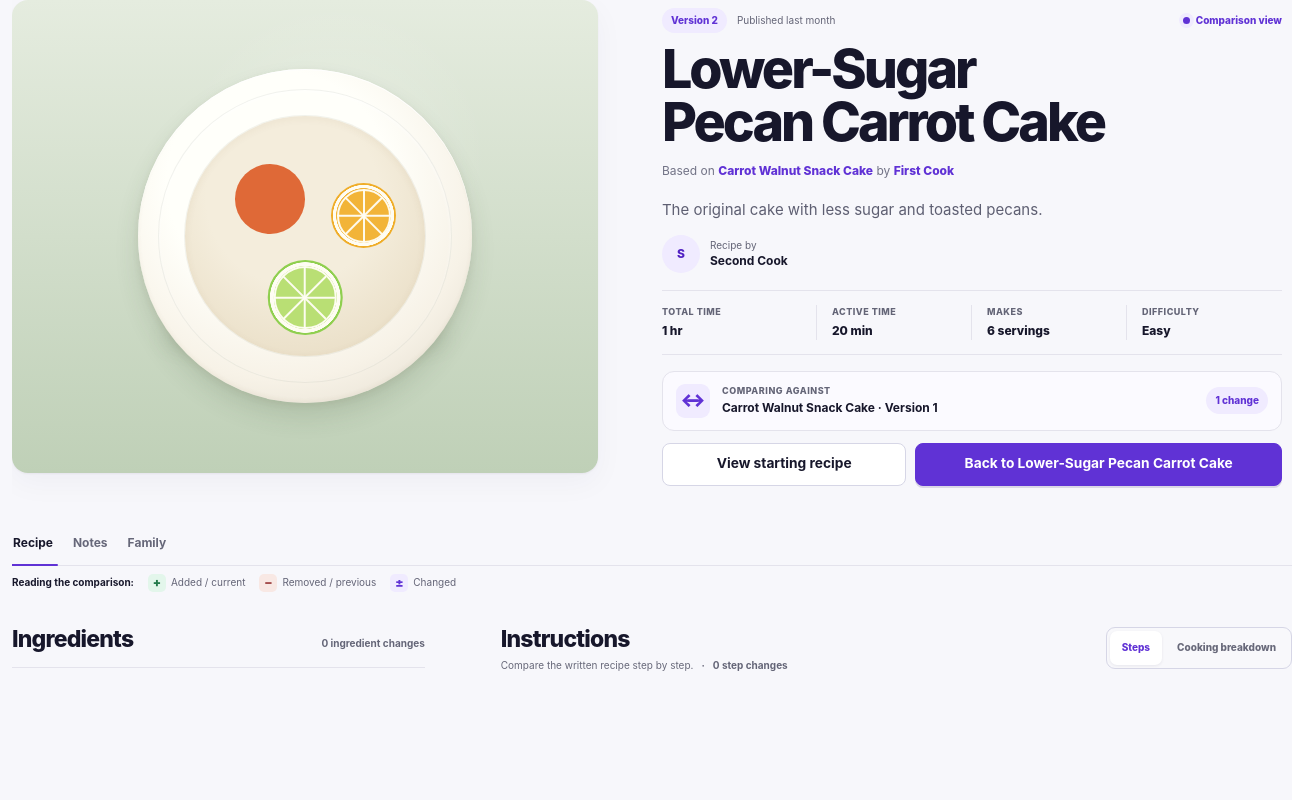
Scenario: RecipeDiffView notes integration › renders current and previous notes without the old recipe-details audit section
The width and height of the screenshot is (1292, 800).
Expected: the heading "Notes from Second Cook" is not shown
Click the tab "Notes" at (90, 549), box 72,534 -> 109,565
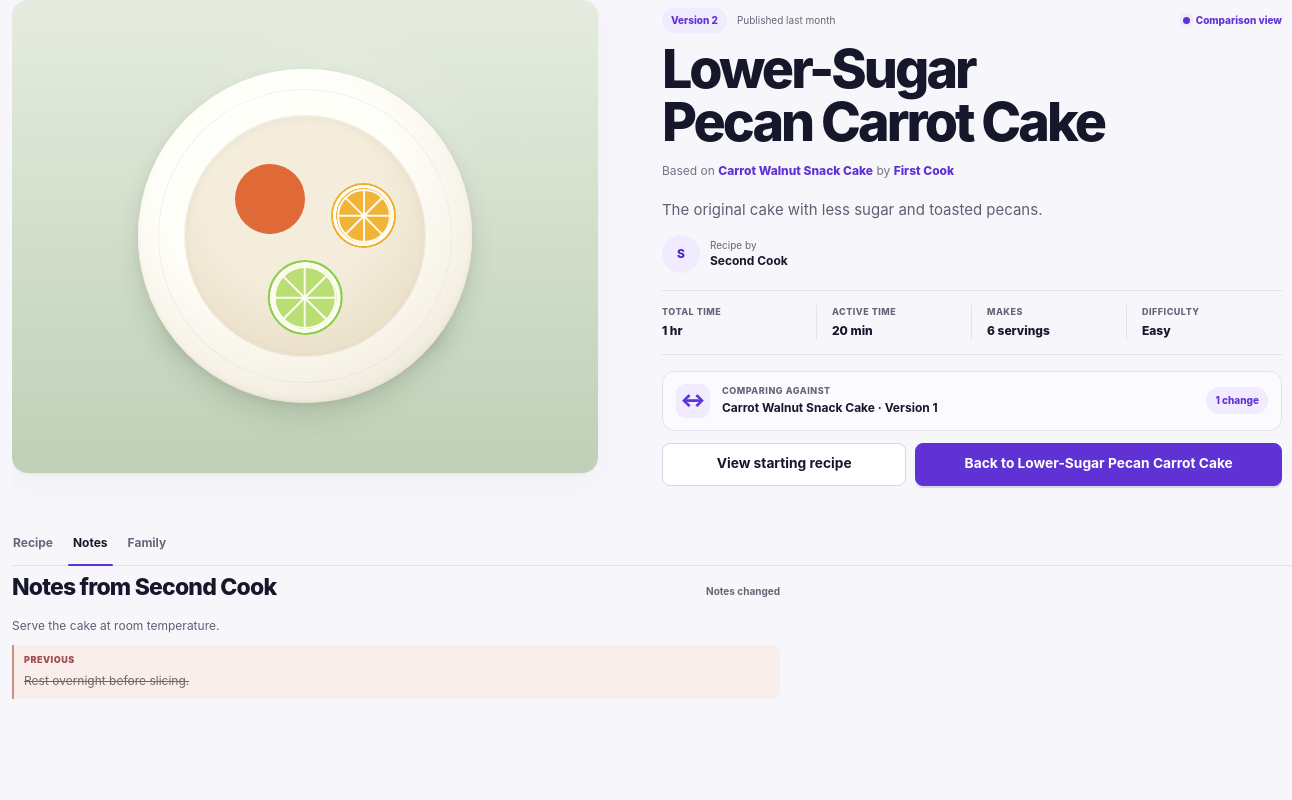
Expected: the element "Notes from Second Cook" is shown, 12,574 -> 780,699
Expected: the element showing "Serve the cake at room temperature." is shown, 12,616 -> 219,633
Expected: the element showing "Rest overnight before slicing." is shown, 24,671 -> 189,688
